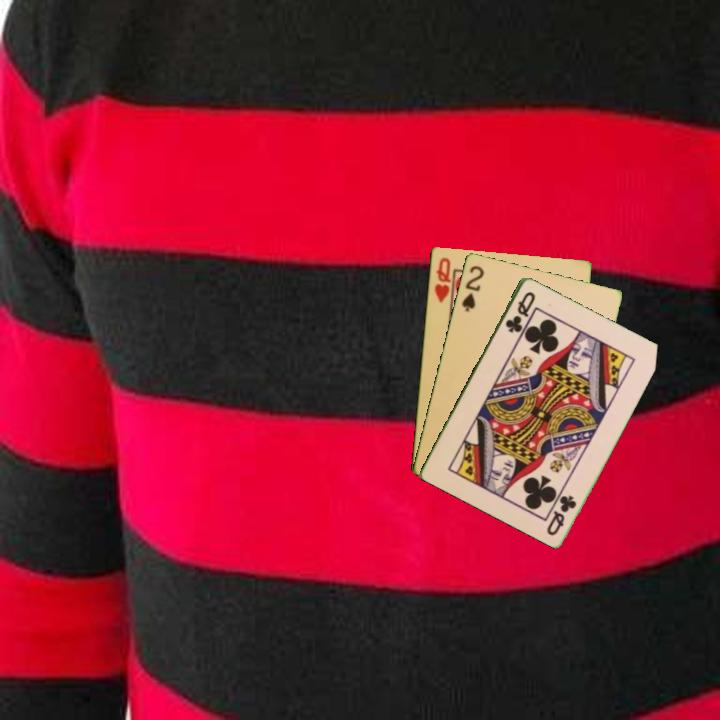2s: (458, 262, 487, 315)
Qc: (501, 288, 538, 336), (543, 491, 579, 538)
Qh: (431, 254, 453, 305)
